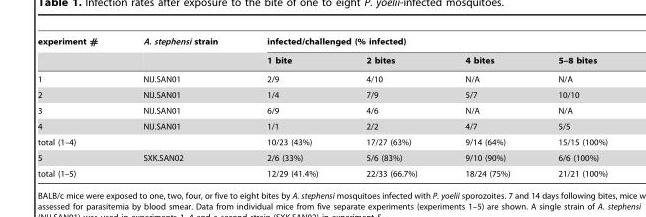table: (37, 36, 607, 177)
table column: (119, 36, 241, 177), (241, 36, 341, 177), (341, 36, 440, 177), (440, 36, 533, 177), (37, 36, 119, 177), (533, 36, 607, 177)
table column header: (37, 36, 607, 69)
table row: (37, 50, 607, 69), (37, 69, 607, 86), (37, 86, 607, 102), (37, 102, 607, 118), (37, 118, 607, 134), (37, 149, 607, 165), (37, 134, 607, 149), (37, 36, 607, 50), (37, 165, 607, 177)
table spanning cell: (241, 36, 607, 50), (119, 36, 241, 69), (37, 36, 119, 69)
